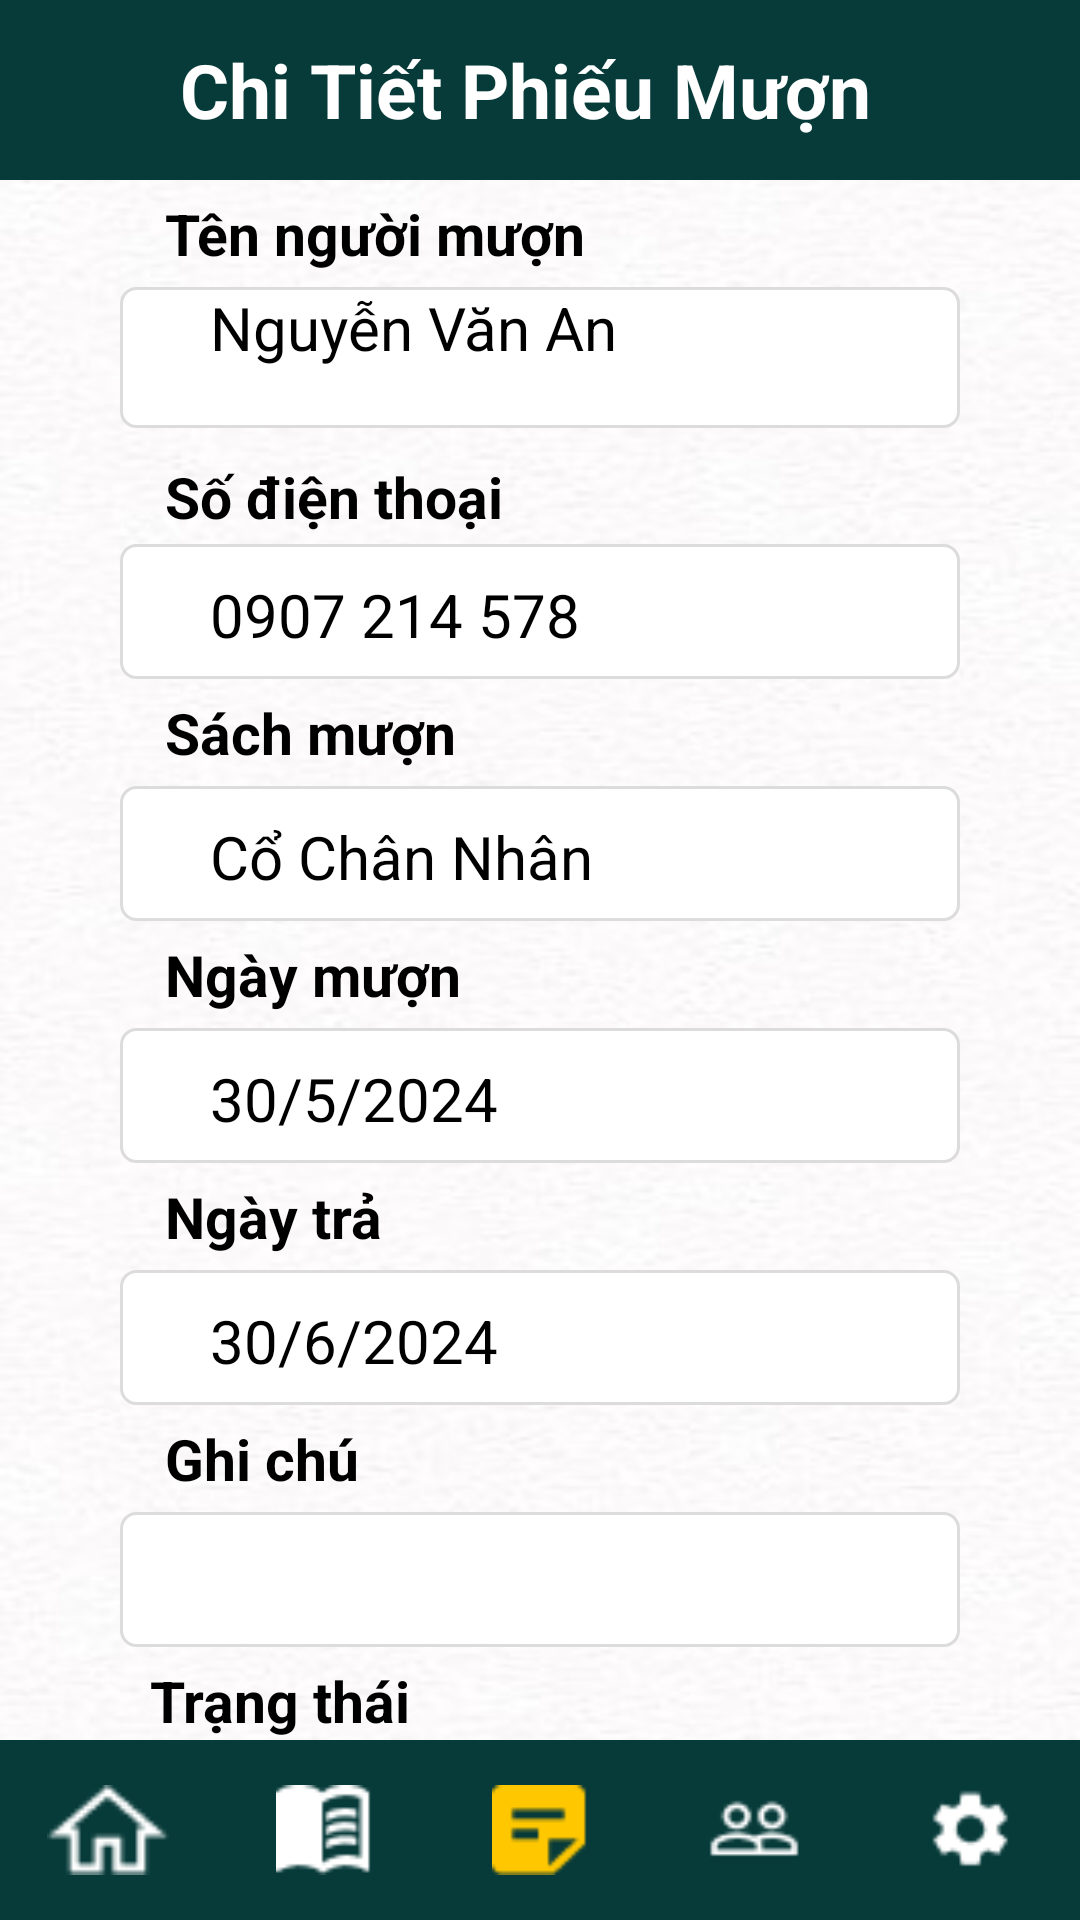

Point at icon controls on the screen. Image size 1080×1920, points as [x,y].
book: [323,1830]
homee: [107,1830]
phieumuon vang: [539,1830]
setting: [970,1828]
user: [754,1828]
